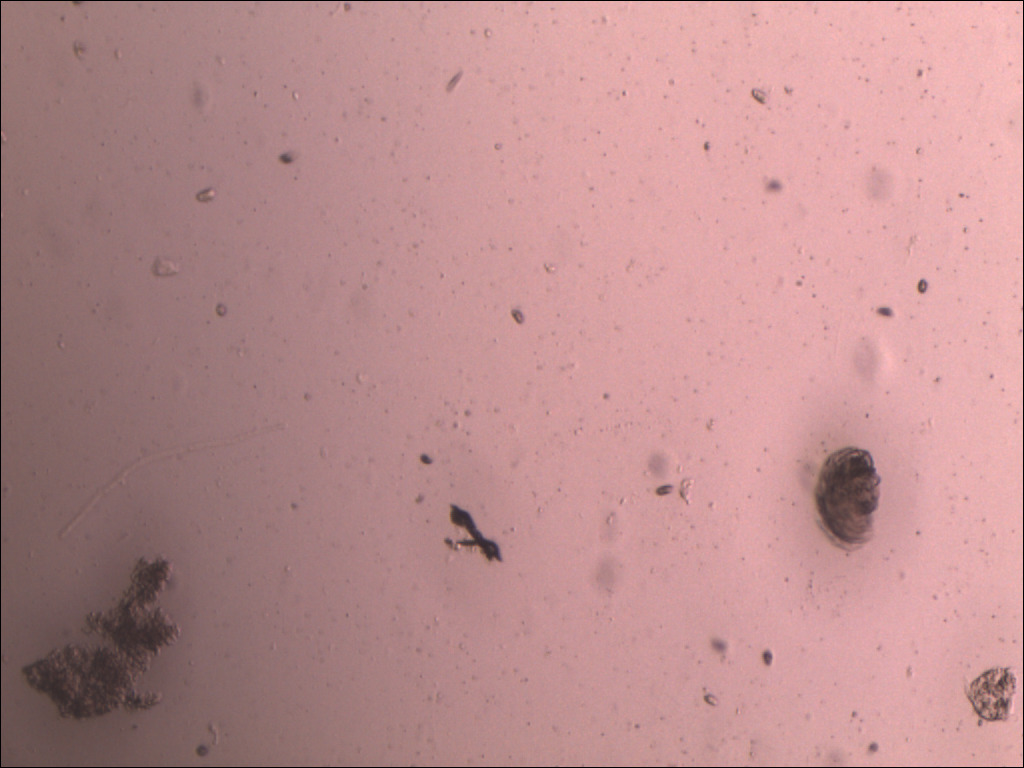amoeba: (19, 548, 202, 731), (942, 646, 1024, 737)
